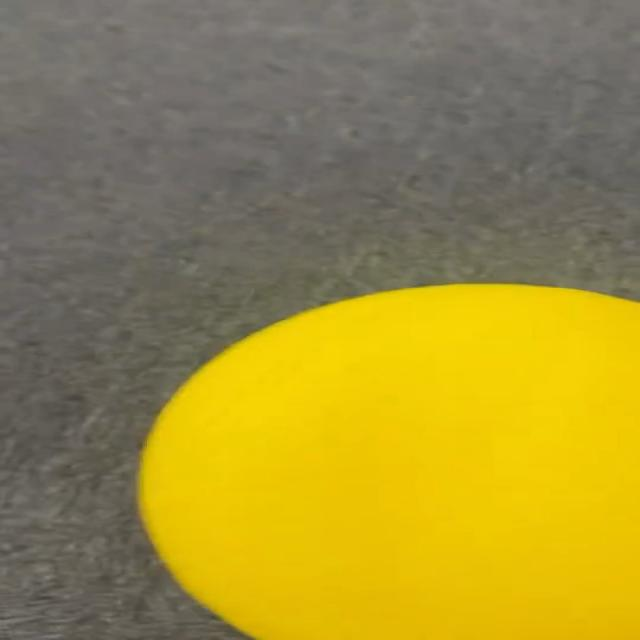Fuels: (139, 282, 637, 637)
